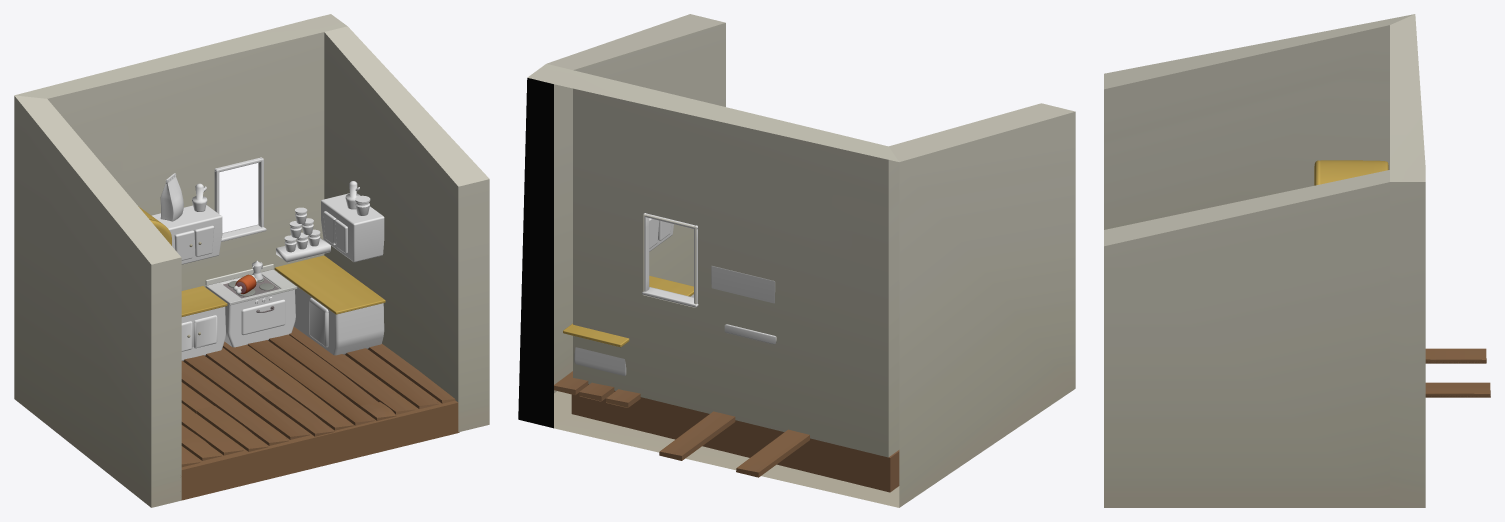
Rendered from cocina texturizada.fbx.
The picture shows the model from 3 angles, left to right: view 1: azimuth 30°, elevation 25°; view 2: azimuth 150°, elevation 25°; view 3: azimuth 270°, elevation 25°; orthographic projection. The views are drawn at different scales.
Parts seen in each view (by area): view 1: Pared, Piso, Mesa1 down.001, Mesa1 up.001, Gabeta.001, Horno, Gabeta, Cube.009, Cube.006, Cube.011, Cube.005, Cube.013 (+14 smaller); view 2: Pared, Piso, Cube.008, Cube.004, Gabeta, Ventana, Mesa1 up.001, Mesa1 down.001; view 3: Pared, Nevera, Cube.008, Cube.004.
Part boxes in pixels (x1,y1,x2,y2): Pared: (14,14,489,507); Piso: (181,349,459,500); Mesa1 down.001: (277,272,384,355); Mesa1 up.001: (274,255,385,314); Gabeta.001: (321,193,384,262); Horno: (224,289,295,347); Gabeta: (152,205,222,264); Cube.009: (223,341,354,430); Cube.006: (183,355,309,439); Cube.011: (247,340,374,425); Cube.005: (181,361,288,445); Cube.013: (289,326,415,414); Pared: (518,14,1075,507); Piso: (571,384,899,492); Cube.008: (659,411,735,460); Cube.004: (736,429,809,477); Gabeta: (711,266,775,303); Ventana: (642,213,698,307); Mesa1 up.001: (563,275,693,347); Mesa1 down.001: (574,294,693,375); Pared: (1104,14,1425,507); Nevera: (1320,160,1388,184); Cube.008: (1425,382,1490,397); Cube.004: (1425,348,1486,363).
Bounding box in the file's own units: 874 × 749 × 812.
